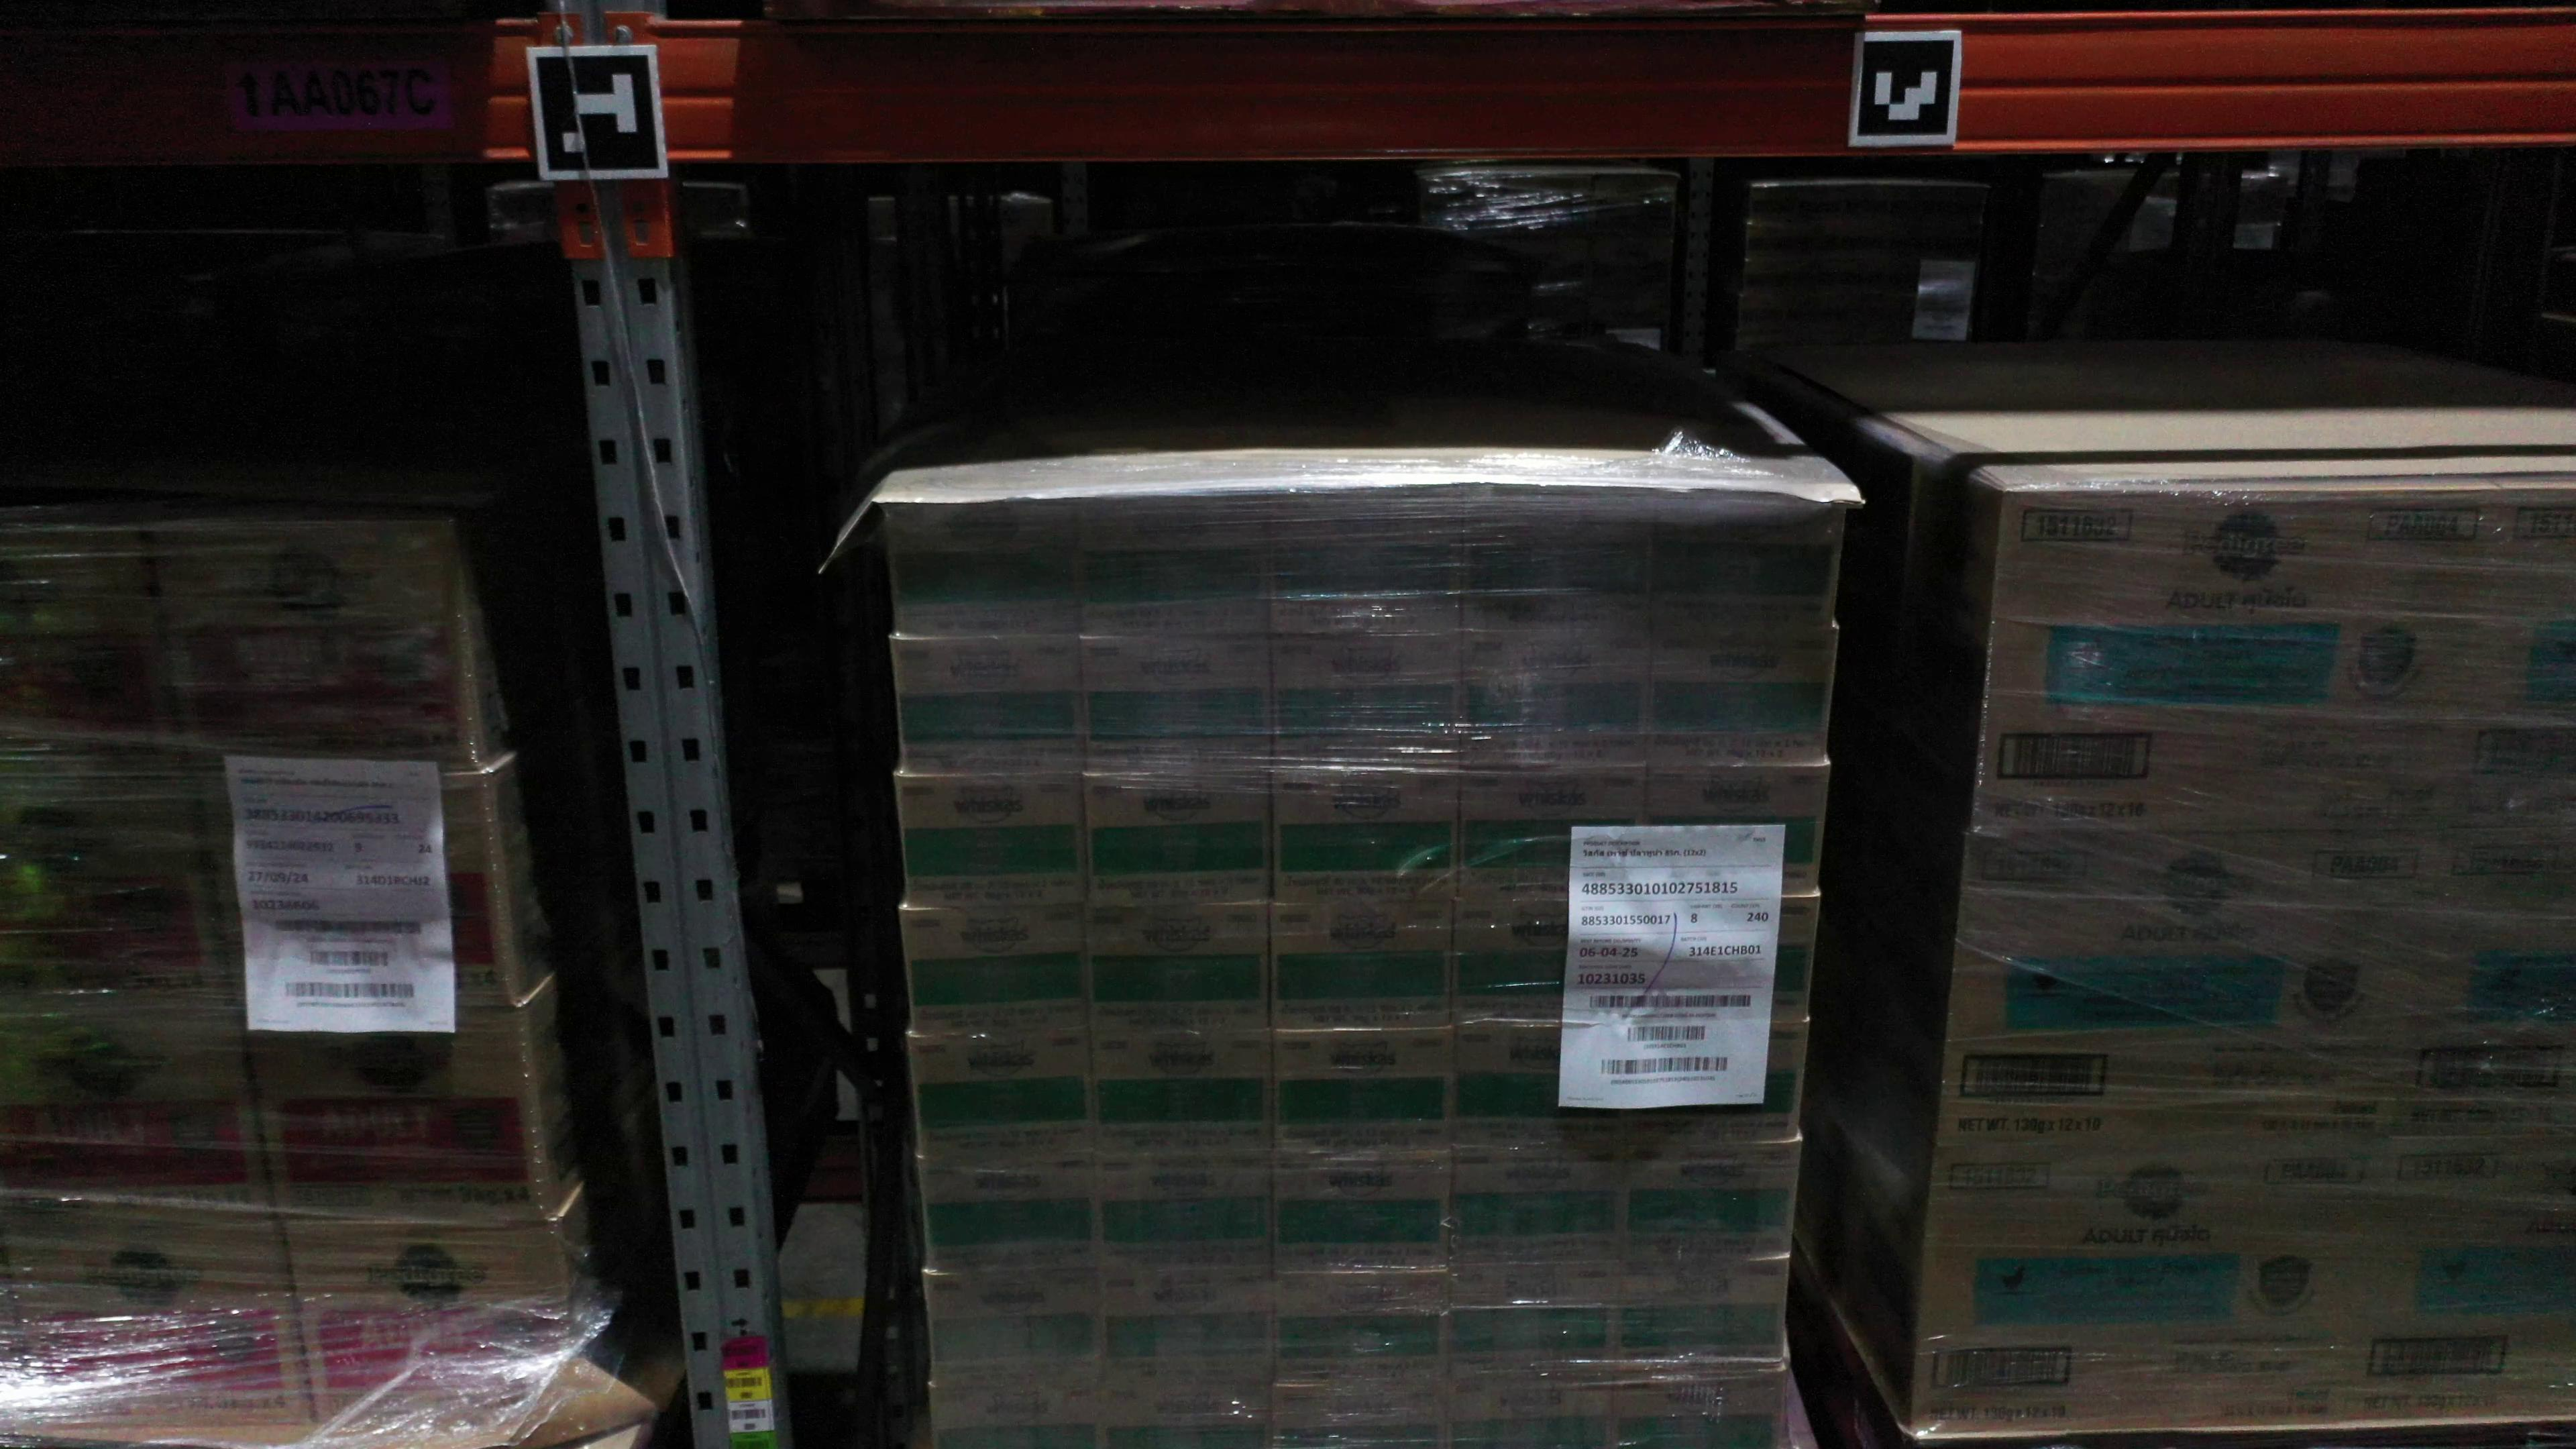-: (1973, 490, 2505, 837), (1937, 830, 2450, 1146), (1909, 1138, 2396, 1431), (147, 520, 483, 773), (189, 771, 520, 1010), (237, 1003, 550, 1223), (2341, 1134, 2576, 1421), (0, 1214, 313, 1424), (0, 1001, 274, 1221), (285, 1219, 573, 1426), (2390, 824, 2576, 1141), (0, 770, 230, 1007), (0, 524, 188, 780), (2456, 490, 2576, 832), (1458, 488, 1658, 639), (1079, 494, 1277, 642), (883, 497, 1086, 639), (1272, 490, 1463, 639), (1651, 494, 1845, 637), (892, 633, 1086, 777), (1458, 763, 1658, 899), (899, 897, 1093, 1037), (1079, 633, 1272, 771), (892, 771, 1086, 908), (1456, 635, 1652, 770), (1272, 633, 1463, 771), (1645, 635, 1838, 768), (1644, 763, 1831, 899), (1085, 771, 1274, 906), (1085, 897, 1270, 1033), (1270, 770, 1463, 901), (1447, 1024, 1635, 1159), (1451, 897, 1645, 1024), (1269, 899, 1454, 1031), (1269, 1026, 1458, 1155), (1637, 895, 1822, 1026), (1626, 1019, 1812, 1150), (908, 1033, 1095, 1161), (1092, 1028, 1274, 1155), (1269, 1152, 1456, 1272), (1093, 1152, 1277, 1274), (916, 1154, 1099, 1274), (1624, 1143, 1806, 1261), (1449, 1261, 1621, 1382), (922, 1270, 1104, 1384), (1449, 1150, 1628, 1263), (1277, 1270, 1449, 1382), (1615, 1260, 1789, 1369), (1102, 1270, 1274, 1380), (1615, 1364, 1787, 1449), (1102, 1375, 1274, 1449), (1447, 1375, 1615, 1449), (1270, 1380, 1449, 1449), (934, 1380, 1104, 1449)
